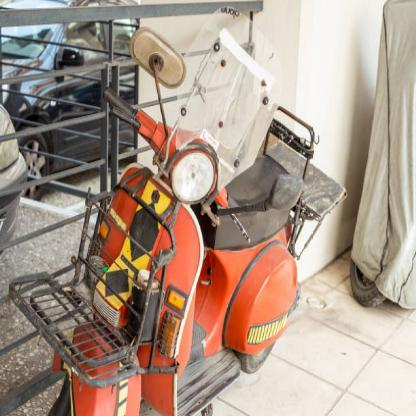Motorcycle: (29, 82, 344, 415)
